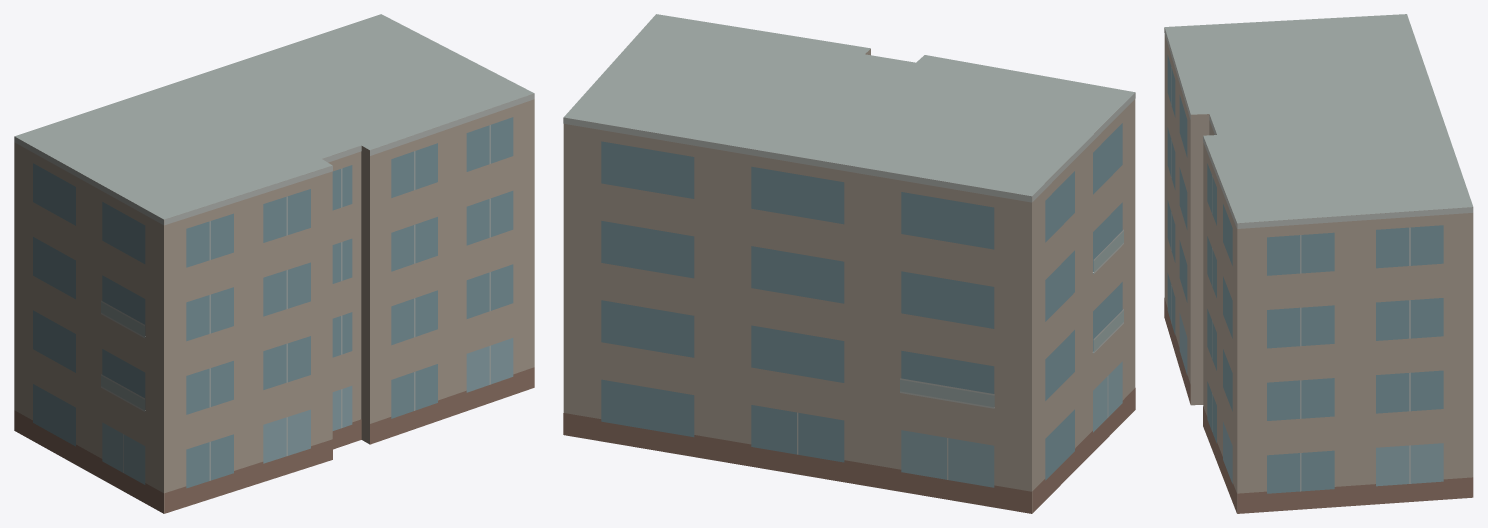
File: survey-upis-32576198.glb
The picture shows the model from 3 angles, left to right: view 1: azimuth 30°, elevation 25°; view 2: azimuth 150°, elevation 25°; view 3: azimuth 270°, elevation 25°; orthographic projection. The views are drawn at different scales.
Visible parts, largest first — view 1: survey-upis-32576198.tmp; view 2: survey-upis-32576198.tmp; view 3: survey-upis-32576198.tmp.
Boxes of the visible parts, x1,y1,x2,y2 form: survey-upis-32576198.tmp: (14,14,534,513); survey-upis-32576198.tmp: (563,14,1135,513); survey-upis-32576198.tmp: (1164,14,1473,513).
Size of the model in its own units: 19.01 by 12.3 by 11.86.
